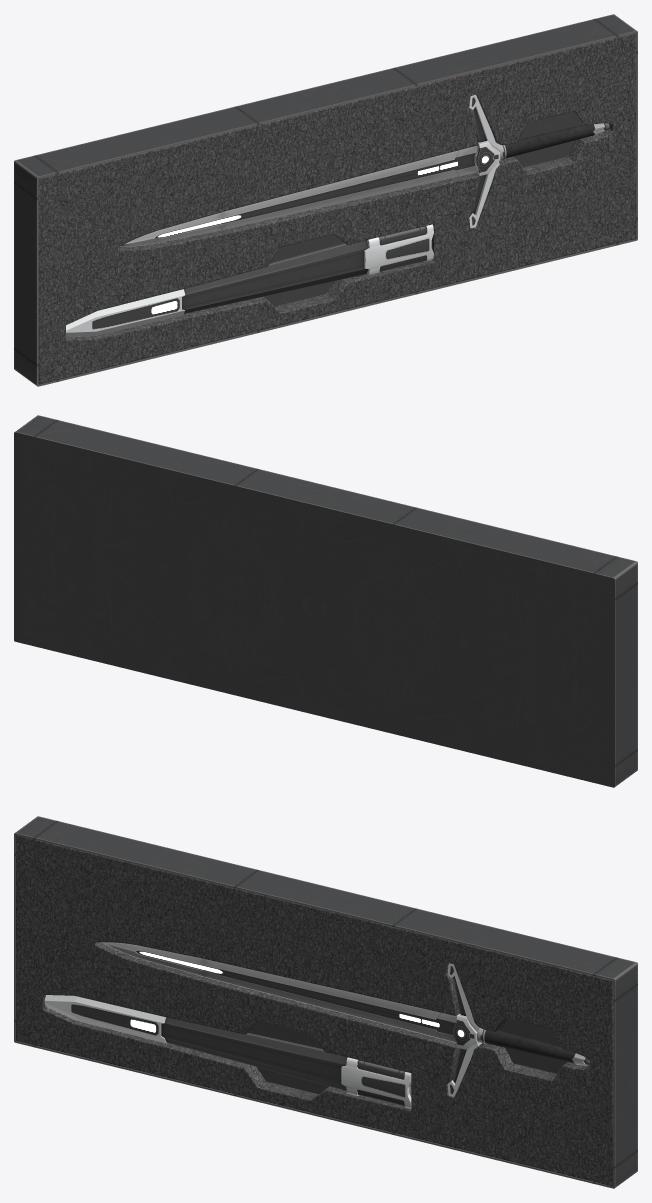
The model's file is MeleeSword02Case.FBX.
3 renders of one model, top to bottom at view 1: azimuth 30°, elevation 25°; view 2: azimuth 150°, elevation 25°; view 3: azimuth 330°, elevation 25°, orthographic.
Parts seen in each view (by area): view 1: Case, Weapon; view 2: Case; view 3: Case, Weapon.
Boxes of the visible parts, x1,y1,x2,y2 form: Case: (14,14,637,386); Weapon: (66,94,609,337); Case: (14,415,637,787); Case: (14,816,637,1188); Weapon: (44,942,589,1108).
Size of what is drawn, in the model's own units: 1.5 by 0.4999 by 0.1025.
